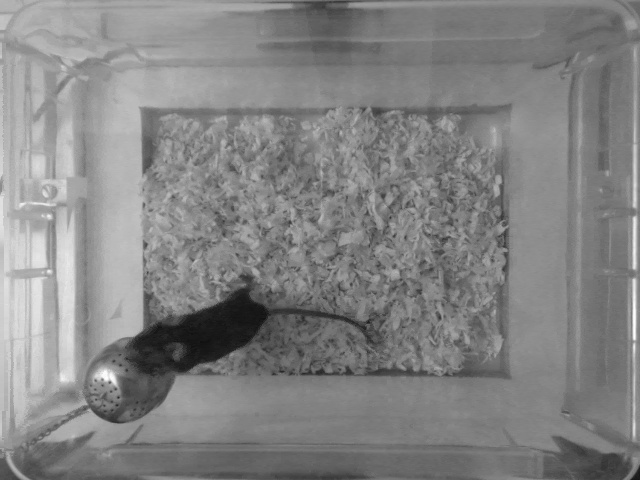mice: (125, 270, 382, 371)
